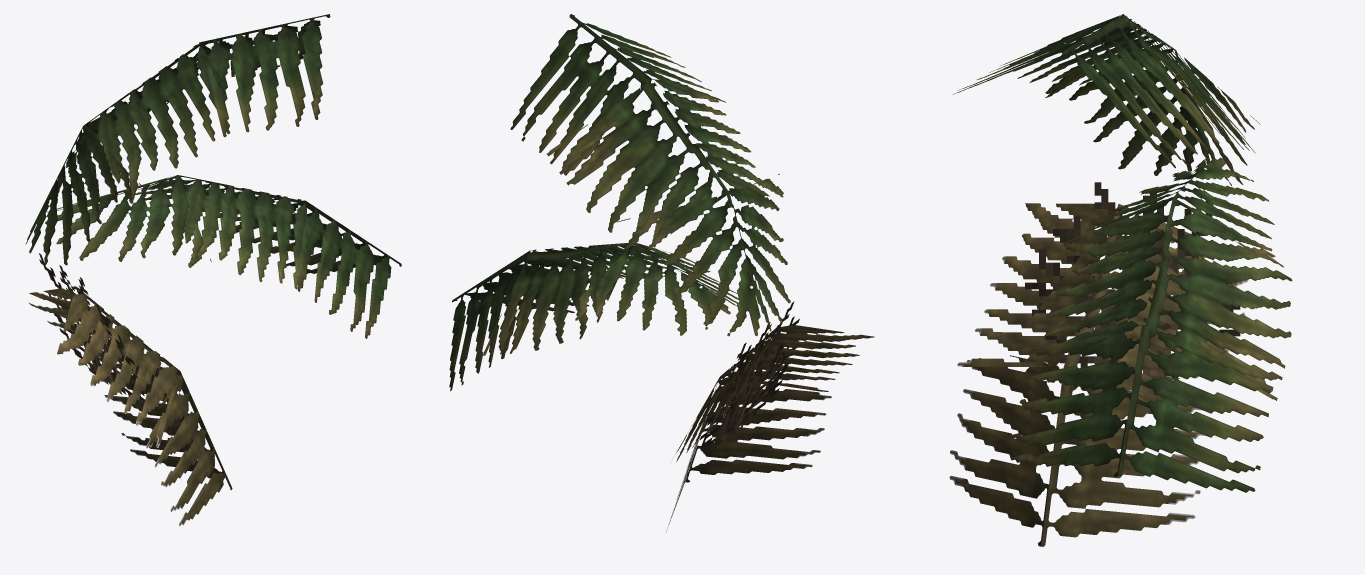
File: caribbean_royal_palm_old_straight_2.obj
3 views of the same model, side by side, from view 1: azimuth 30°, elevation 25°; view 2: azimuth 150°, elevation 25°; view 3: azimuth 270°, elevation 25° (orthographic). The views are drawn at different scales.
Parts seen in each view (by area): view 1: cube.464; view 2: cube.464; view 3: cube.464.
Part boxes in pixels (x1,y1,x2,y2): cube.464: (25,14,401,526); cube.464: (449,14,874,531); cube.464: (949,14,1292,546).
Size of the model in its own units: 3.81 by 4.33 by 2.8.
